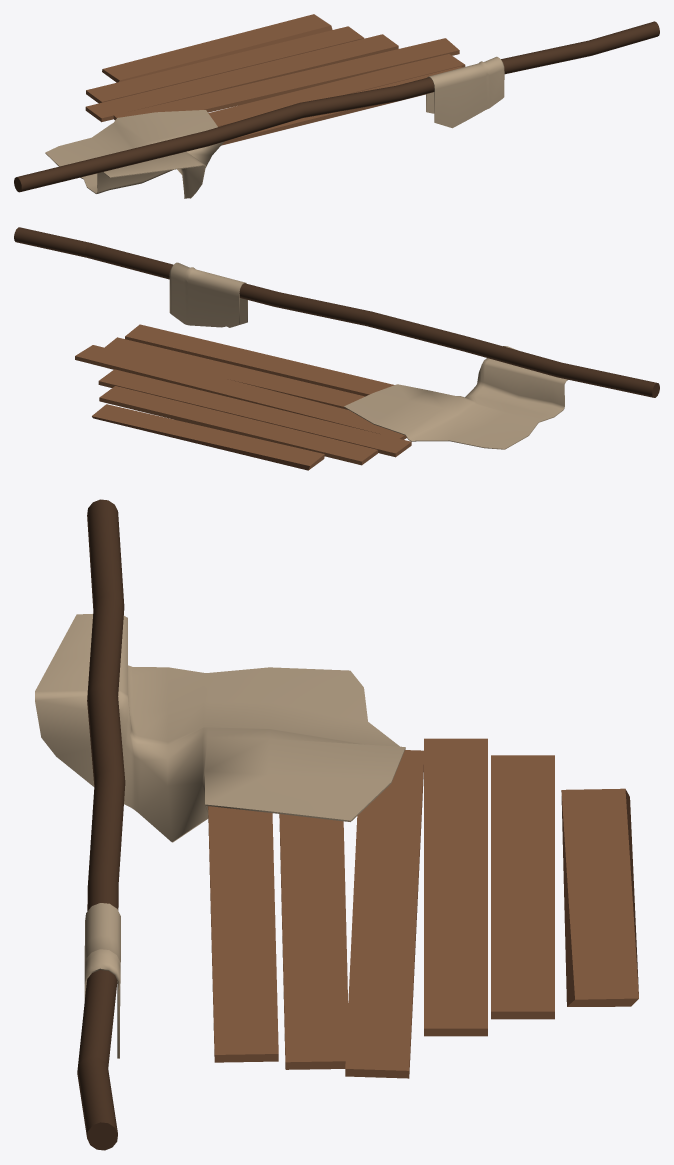
File: 2ndBridge_03_Extrafbx.fbx
3 views of the same model, one above another, from view 1: azimuth 30°, elevation 25°; view 2: azimuth 150°, elevation 25°; view 3: azimuth 270°, elevation 25° (orthographic). The views are drawn at different scales.
Parts seen in each view (by area): view 1: Bridge.004; view 2: Bridge.004; view 3: Bridge.004.
Part boxes in pixels (x1=…): Bridge.004: x1=14, y1=14, x2=659, y2=198; Bridge.004: x1=14, y1=227, x2=659, y2=470; Bridge.004: x1=35, y1=499, x2=638, y2=1150.
Bounding box in the file's own units: 1719 × 213 × 705.
